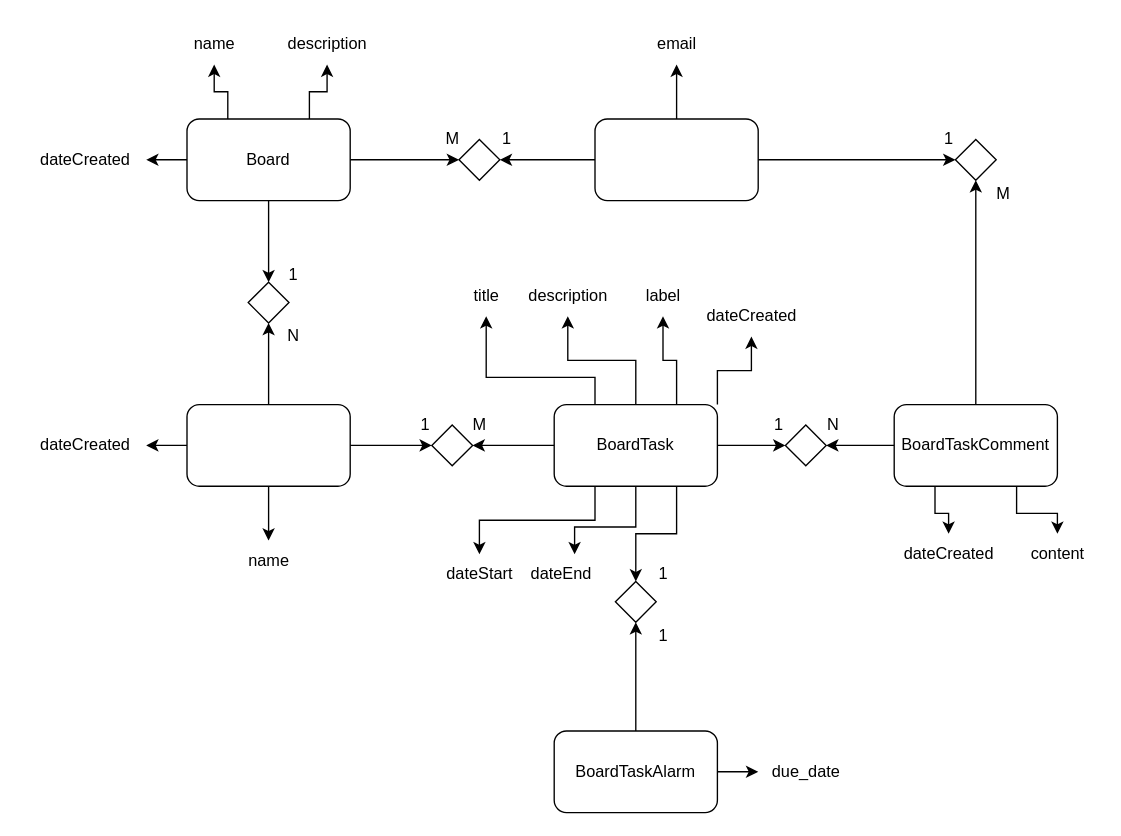
This 1121x836 diagram has some shape labels left out. The centre of each missing label's shape, as x and y in pixels:
"BoardList" belongs at pixel 268 444.
"User" belongs at pixel 676 159.
